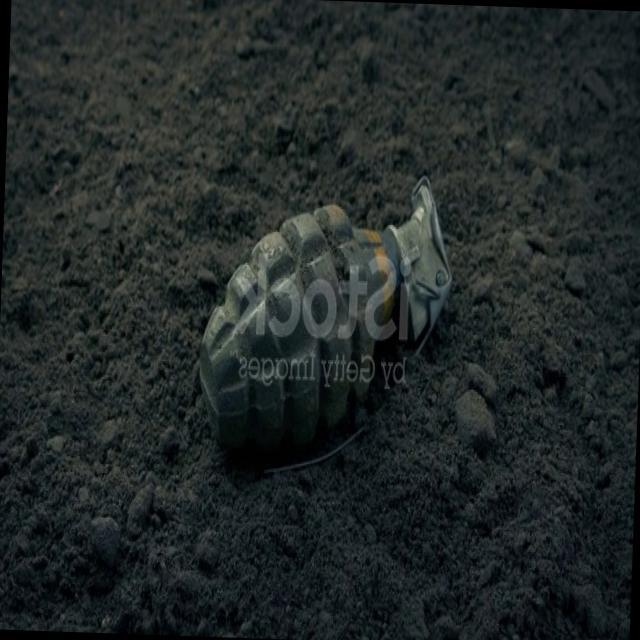grenade: (189, 158, 458, 480)
